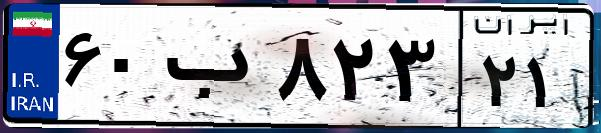0: (110, 28, 158, 98)
1: (525, 38, 570, 115)
2: (330, 28, 385, 110), (475, 38, 525, 113)
3: (385, 28, 445, 110)
6: (57, 26, 110, 100)
8: (270, 28, 330, 110)
ب: (158, 20, 270, 120)
